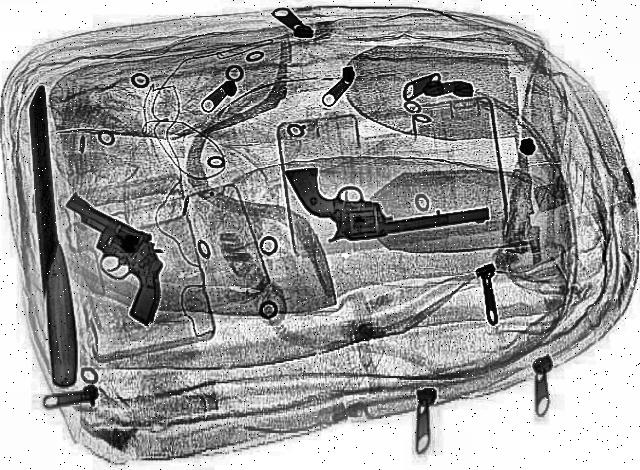Gun: (8, 196, 218, 328), (287, 148, 493, 248)
Knife: (20, 87, 84, 389)
